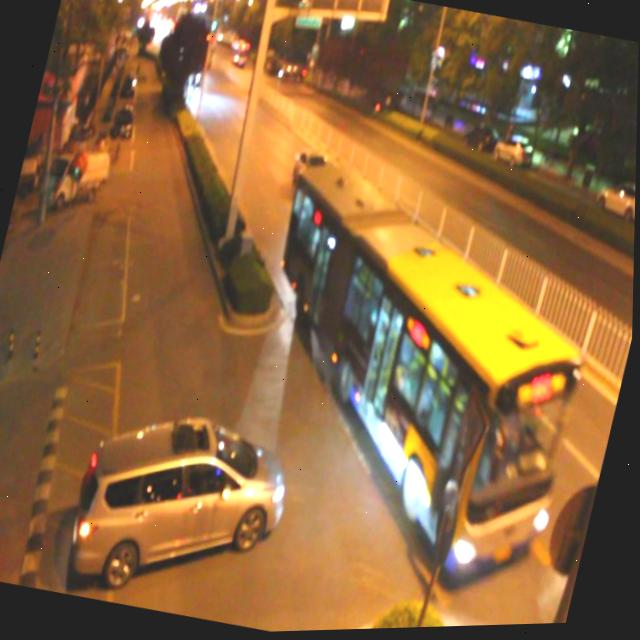car: (66, 397, 300, 609), (290, 147, 330, 191)
van: (219, 150, 616, 596)
